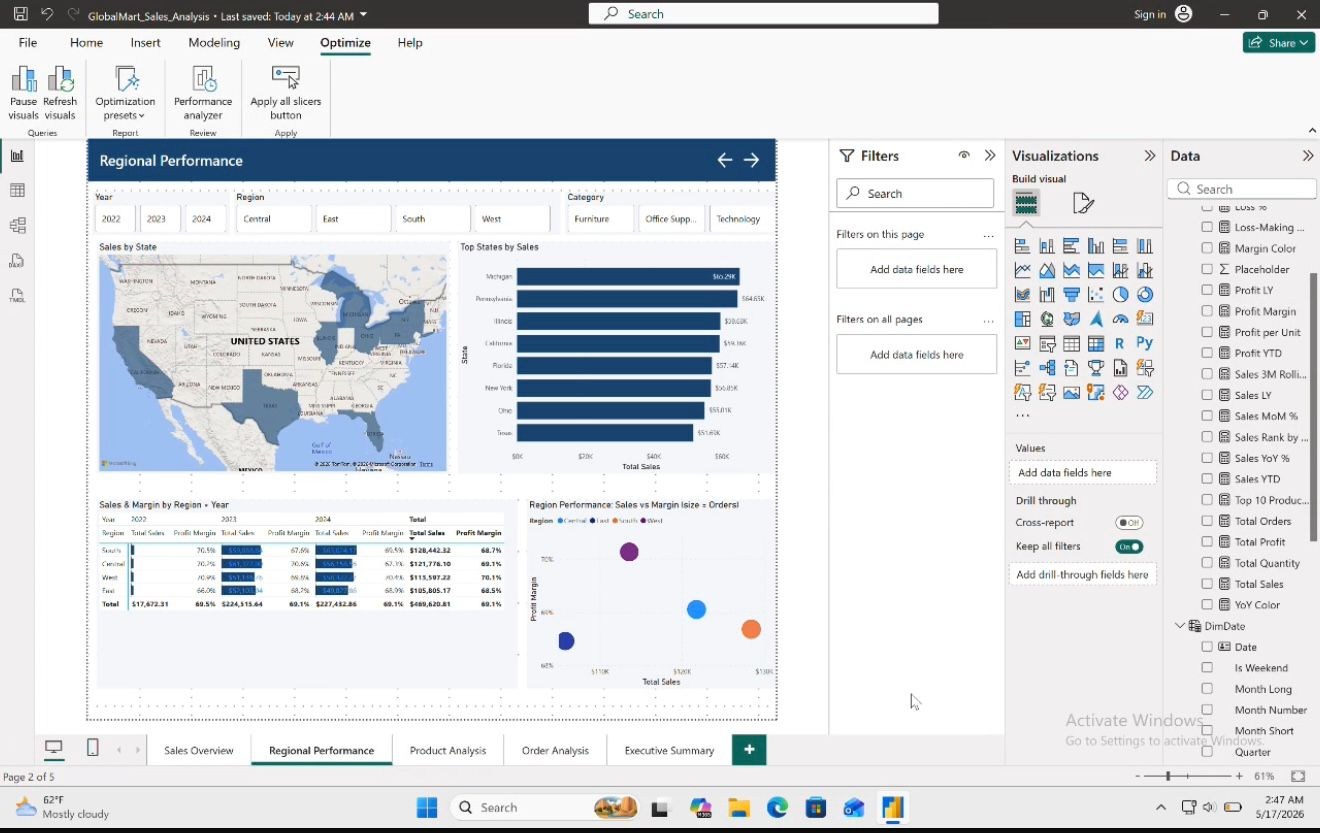

The page's visual inventory and layout, read from the dashboard file:
{"tool":"powerbi","page":{"name":"Regional Performance","canvas":[1280,1080],"ordinal":1},"visuals":[{"type":"group","id":"g1","title":"Group 1","box":[0,0,1280,80],"z":0},{"type":"shape","box":[0,0,1280,80],"z":0,"group":"g1"},{"type":"textbox","box":[16,16,288,48],"z":1000,"group":"g1"},{"type":"advancedSlicerVisual","fields":{"Values":["Sales.Region"]},"box":[272.3,99.3,608,80],"z":1000},{"type":"advancedSlicerVisual","fields":{"Values":["DimDate.Year"]},"box":[8.3,99.3,256,80],"z":2000},{"type":"advancedSlicerVisual","fields":{"Values":["Sales.Category"]},"box":[888.3,99.3,400,80],"z":3000},{"type":"filledMap","title":"Sales by State","fields":{"Category":["Sales.State"]},"box":[16,192,656,432],"z":4000},{"type":"barChart","title":"Top States by Sales","fields":{"Category":["Sales.State"],"Y":["_Measures.Total Sales"]},"box":[688,192,592,432],"z":4001},{"type":"pivotTable","title":" Sales & Margin by Region × Year","fields":{"Rows":["Sales.Region"],"Columns":["DimDate.Year"],"Values":["_Measures.Total Sales","_Measures.Profit Margin"]},"box":[16,672,784,352],"z":4002},{"type":"scatterChart","title":"Region Performance: Sales vs Margin (size = Orders)","fields":{"X":["_Measures.Total Sales"],"Y":["_Measures.Profit Margin"],"Size":["_Measures.Total Orders"],"Series":["Sales.Region"],"Category":["Sales.Region"]},"box":[816,672,464,352],"z":4003},{"type":"actionButton","box":[1216,16,48,48],"z":12001},{"type":"actionButton","box":[1168,16,32,48],"z":12002}]}

Visuals, with their boxes on the page's 1280x1080 design canvas (x1, y1, x2, y2). These are canvas units, not pixel positions in the 1320x833 screenshot, which may show the page scaled, cropped or inside an application window:
"Group 1" group: pyautogui.locateOnScreen(0, 0, 1280, 80)
shape: pyautogui.locateOnScreen(0, 0, 1280, 80)
textbox: pyautogui.locateOnScreen(16, 16, 304, 64)
advancedSlicerVisual - Sales.Region: pyautogui.locateOnScreen(272, 99, 880, 179)
advancedSlicerVisual - DimDate.Year: pyautogui.locateOnScreen(8, 99, 264, 179)
advancedSlicerVisual - Sales.Category: pyautogui.locateOnScreen(888, 99, 1288, 179)
"Sales by State" filledMap: pyautogui.locateOnScreen(16, 192, 672, 624)
"Top States by Sales" barChart: pyautogui.locateOnScreen(688, 192, 1280, 624)
" Sales & Margin by Region × Year" pivotTable: pyautogui.locateOnScreen(16, 672, 800, 1024)
"Region Performance: Sales vs Margin (size = Orders)" scatterChart: pyautogui.locateOnScreen(816, 672, 1280, 1024)
actionButton: pyautogui.locateOnScreen(1216, 16, 1264, 64)
actionButton: pyautogui.locateOnScreen(1168, 16, 1200, 64)
